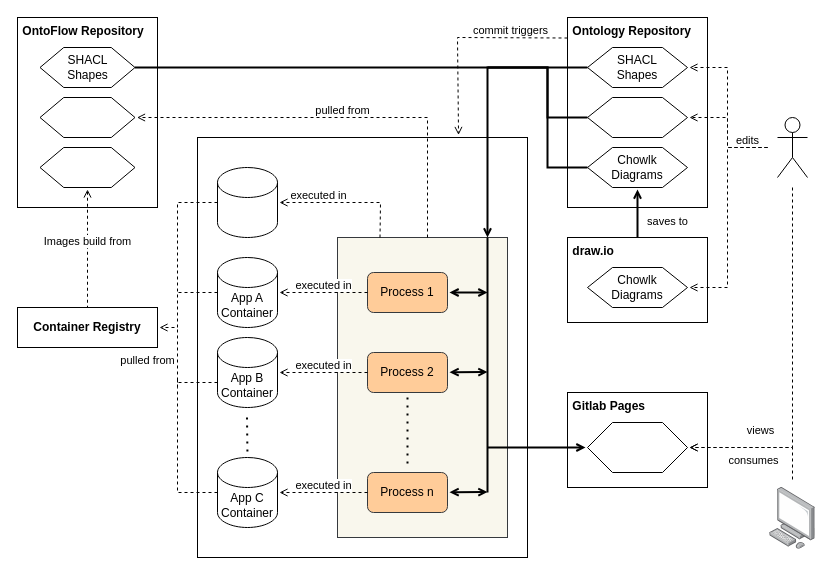
The diagram is 833 pixels wide and 575 high, and some of its shapes have lost their labels. Here are the shapes that lost their labels. From the top down, the box of each, then its label:
(39, 96, 135, 138): Workflow Definition
(586, 96, 688, 138): OWL Files
(39, 146, 135, 188): Dockerfiles
(216, 166, 278, 238): OntoFlow Container
(196, 136, 528, 558): Gitlab CI Runner
(336, 236, 508, 538): Nextflow Workflow
(586, 422, 688, 472): Ontology Artifact Package
